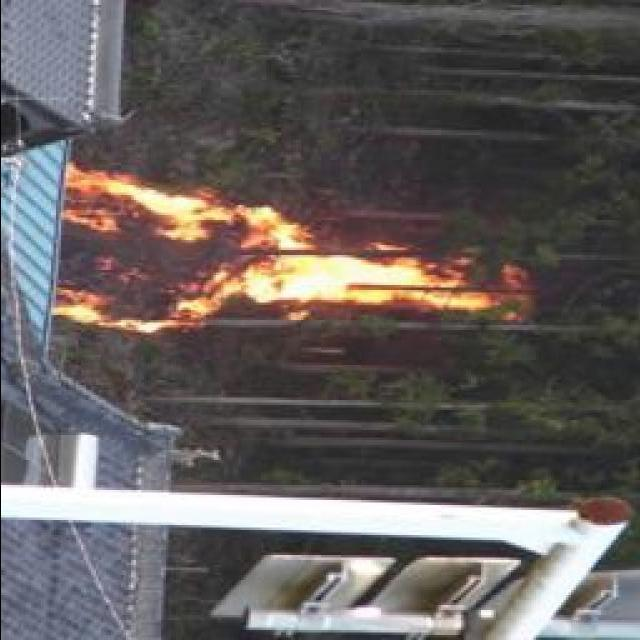Fire: (43, 171, 487, 333)
